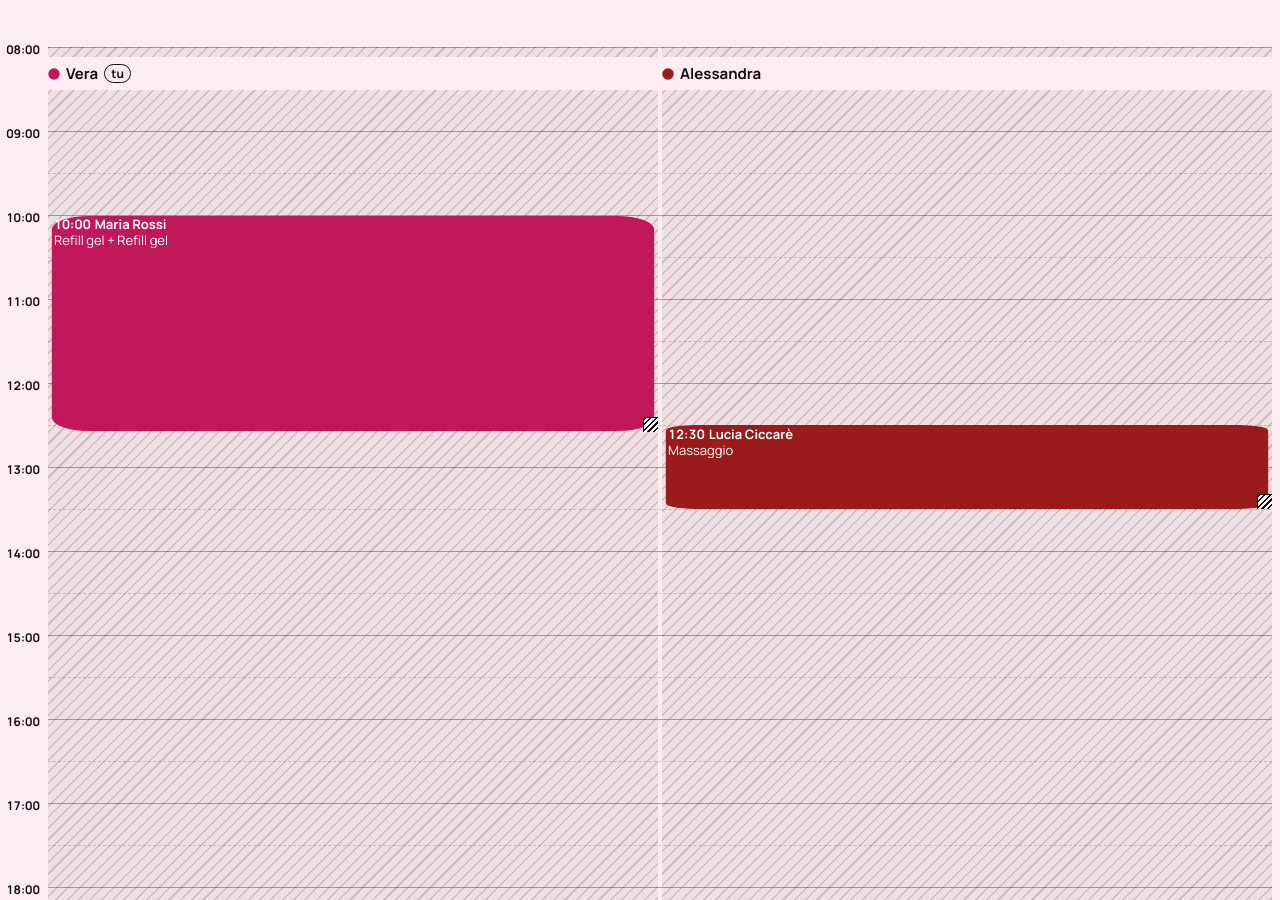
Test: «Annulla» › ha un codice d invio SUO, le versioni adottate, riporta alla posizione di prima, e si spegne al primo tocco
Step 1. Press the mouse on the button "10:00 Maria Rossi Refill gel + Refill gel" → (353, 324), box [48,215,658,432]
Wait 400 ms
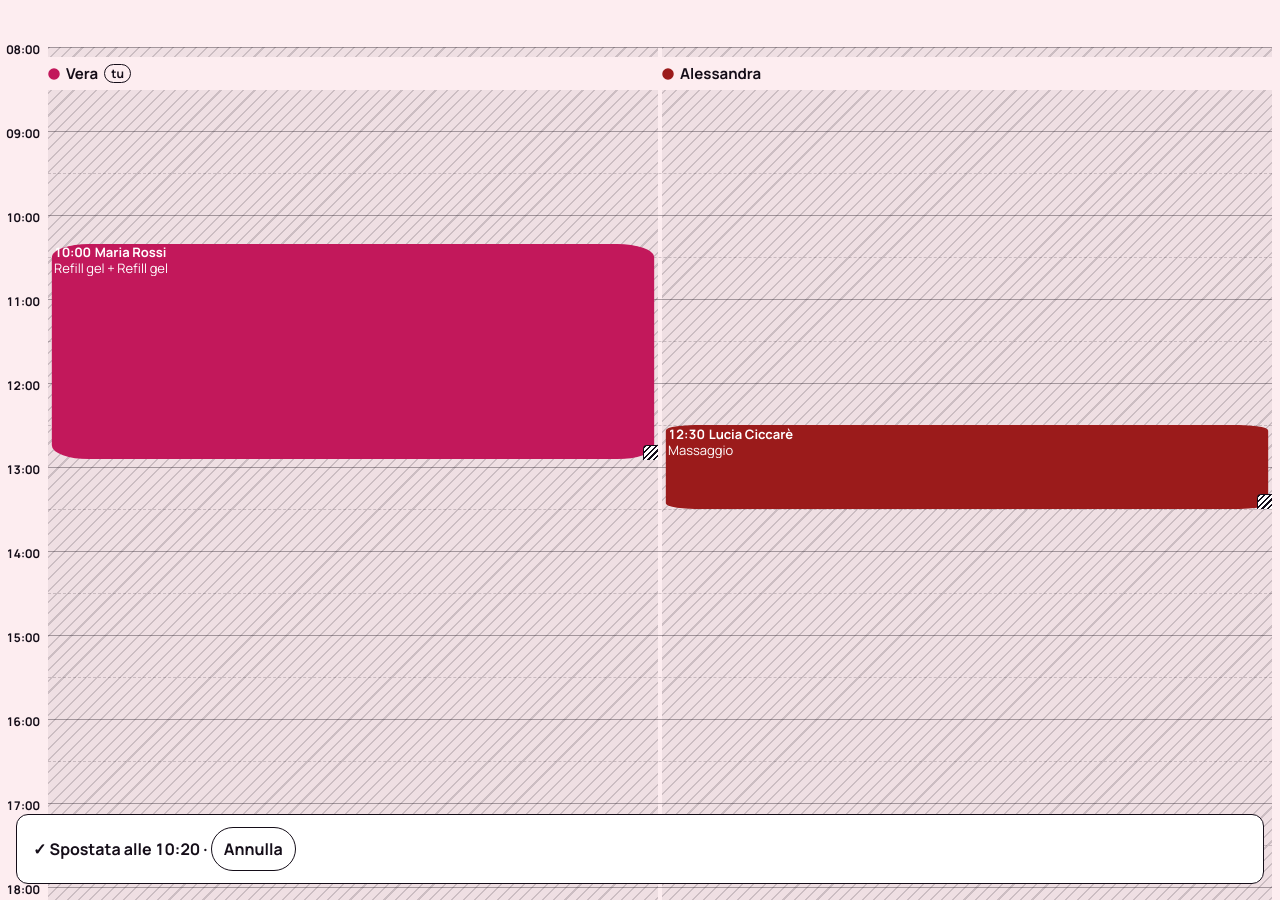
Step 2. Click the button "Annulla" → (253, 849), box [211,827,296,871]
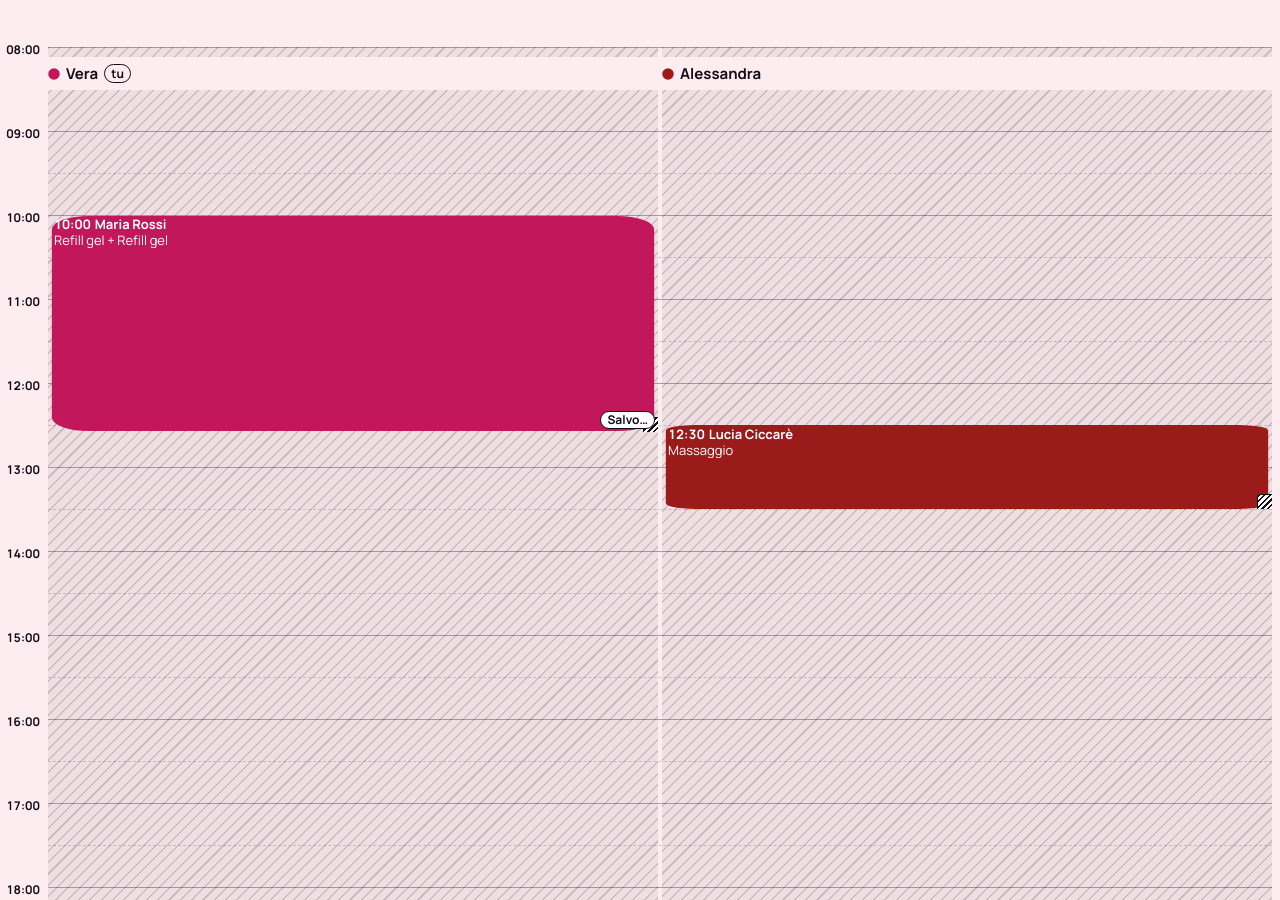
Expected: the button "Annulla" is gone
